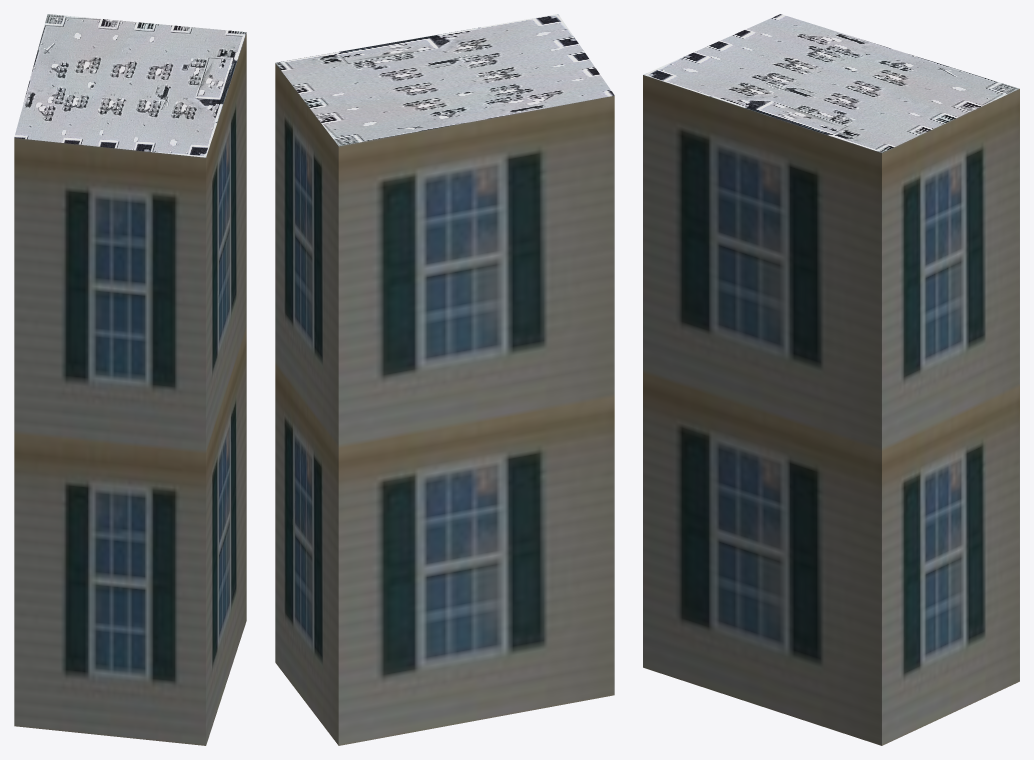
Rendered from ResTex__1310.fbx.
The picture shows the model from 3 angles, left to right: view 1: azimuth 30°, elevation 25°; view 2: azimuth 150°, elevation 25°; view 3: azimuth 270°, elevation 25°; orthographic projection.
Parts seen in each view (by area): view 1: CityEngineMaterial_7_m, CityEngineMaterial_m; view 2: CityEngineMaterial_7_m, CityEngineMaterial_m; view 3: CityEngineMaterial_7_m, CityEngineMaterial_m.
Boxes of the visible parts, bbox=[...] form: CityEngineMaterial_7_m: bbox=[14, 33, 246, 745]; CityEngineMaterial_m: bbox=[14, 14, 246, 157]; CityEngineMaterial_7_m: bbox=[275, 63, 614, 745]; CityEngineMaterial_m: bbox=[275, 14, 614, 146]; CityEngineMaterial_7_m: bbox=[643, 75, 1019, 745]; CityEngineMaterial_m: bbox=[643, 14, 1019, 152].
Bounding box in the file's own units: 3.02 × 6 × 3.46.
2 materials, 2 textured.
